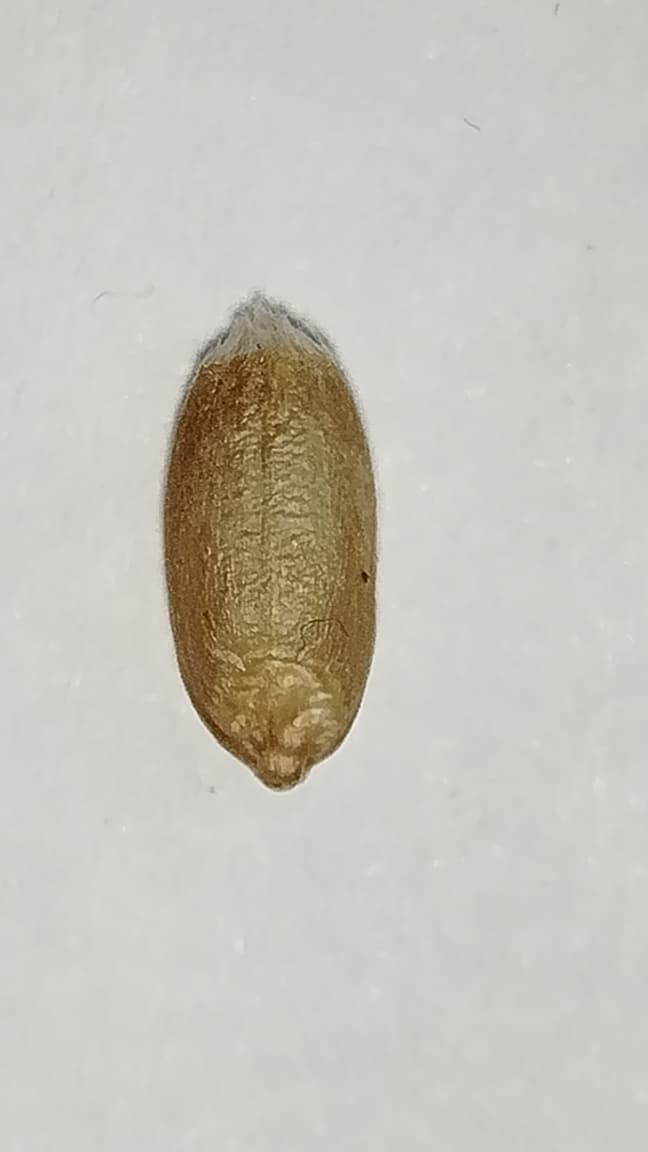healthy: (159, 310, 379, 791)
